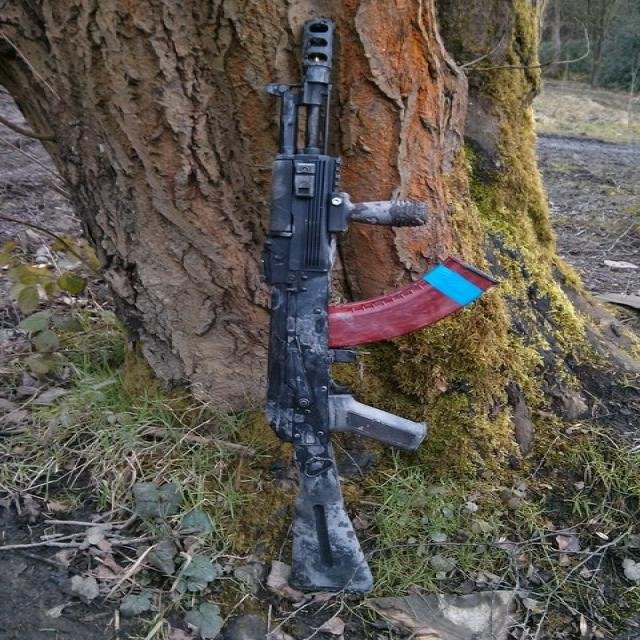firearm: (263, 19, 492, 594)
